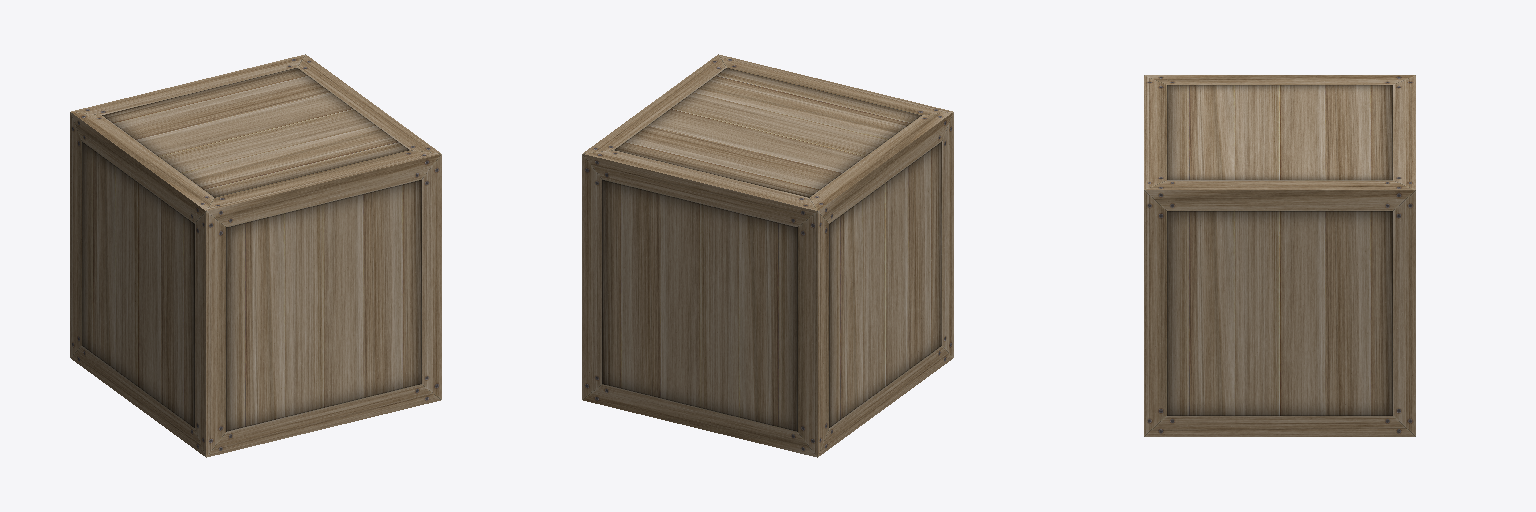
3 renders of one model, left to right at view 1: azimuth 30°, elevation 25°; view 2: azimuth 150°, elevation 25°; view 3: azimuth 270°, elevation 25°, orthographic.
Parts seen in each view (by area): view 1: Cube; view 2: Cube; view 3: Cube.
Boxes of the visible parts, box(x1,y1,x2,y2) form: Cube: box(70, 54, 441, 457); Cube: box(582, 54, 953, 457); Cube: box(1144, 75, 1415, 436).
Size of the model in its own units: 2 by 2 by 2.
Materials: 1 (1 with a texture image).